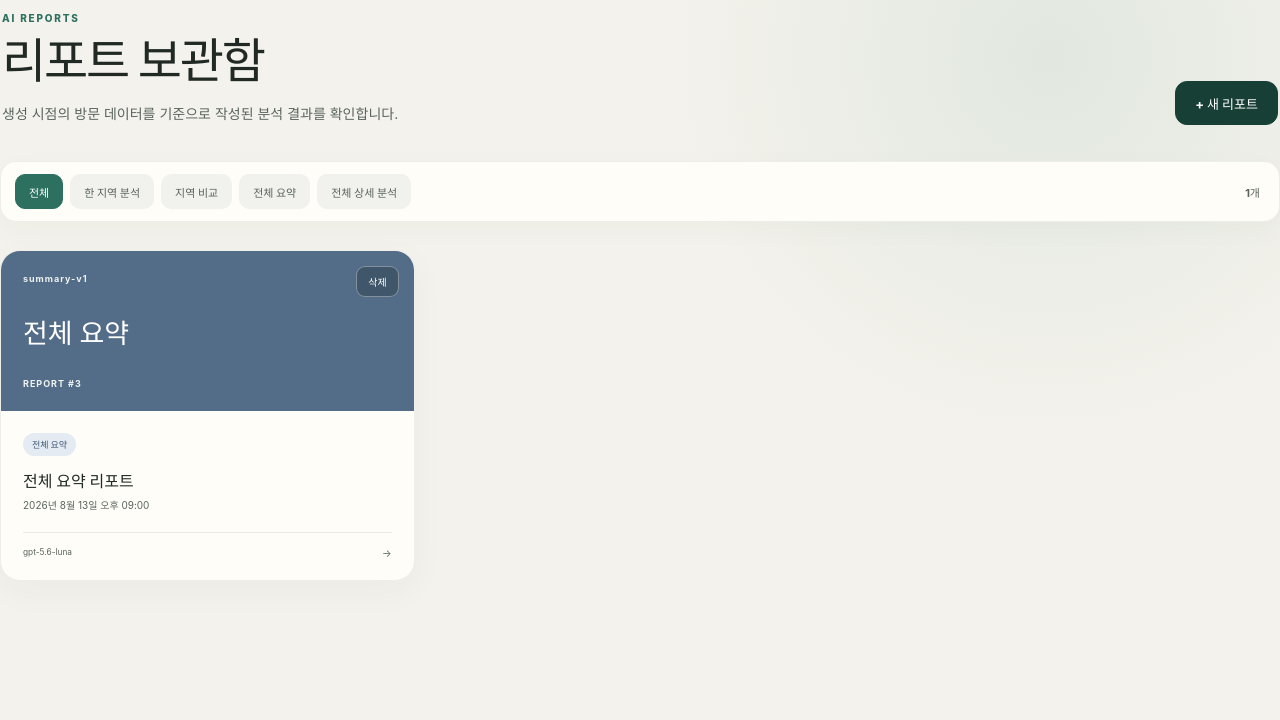
Test case: ReportsPage › 확인 후 Report를 삭제하고 현재 필터 목록을 다시 조회한다
Click the button with aria-label "전체 요약 리포트 #3 삭제": (378, 282) [356,266,399,298]
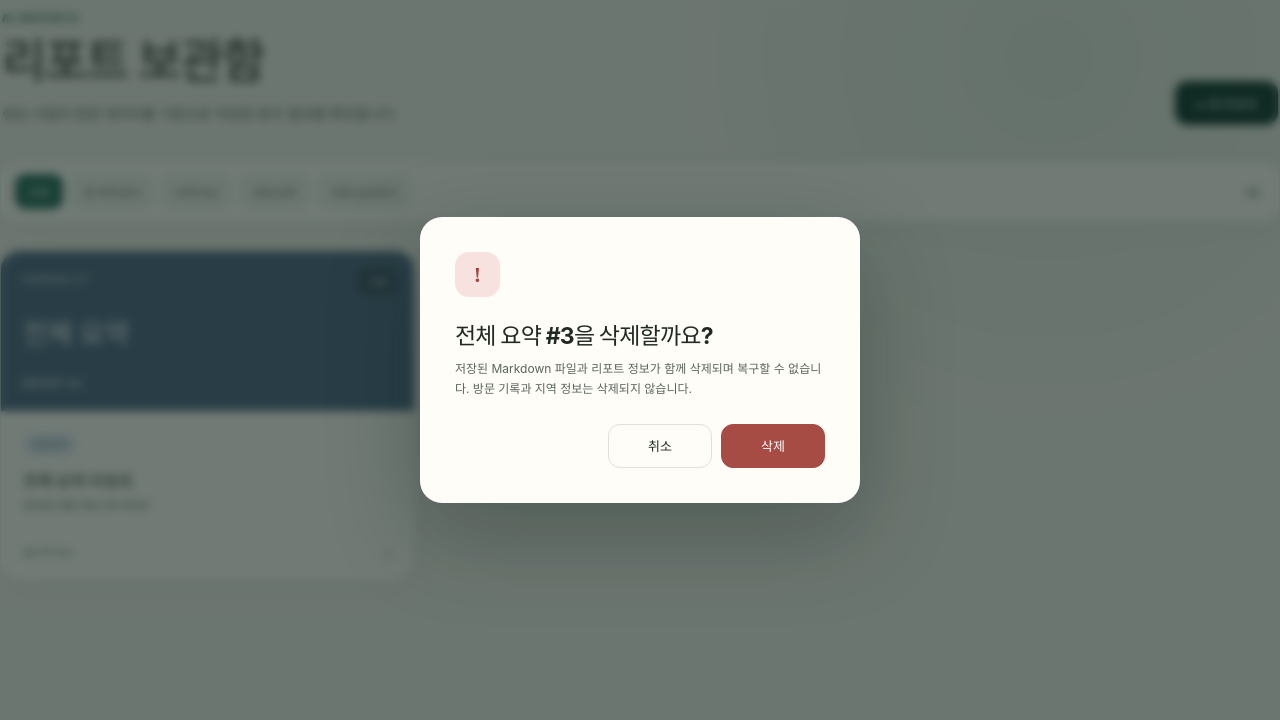
Expected: the heading "전체 요약 #3을 삭제할까요?" is shown, [455,322,713,350]
Click the button "삭제": (773, 446) [721,424,825,468]
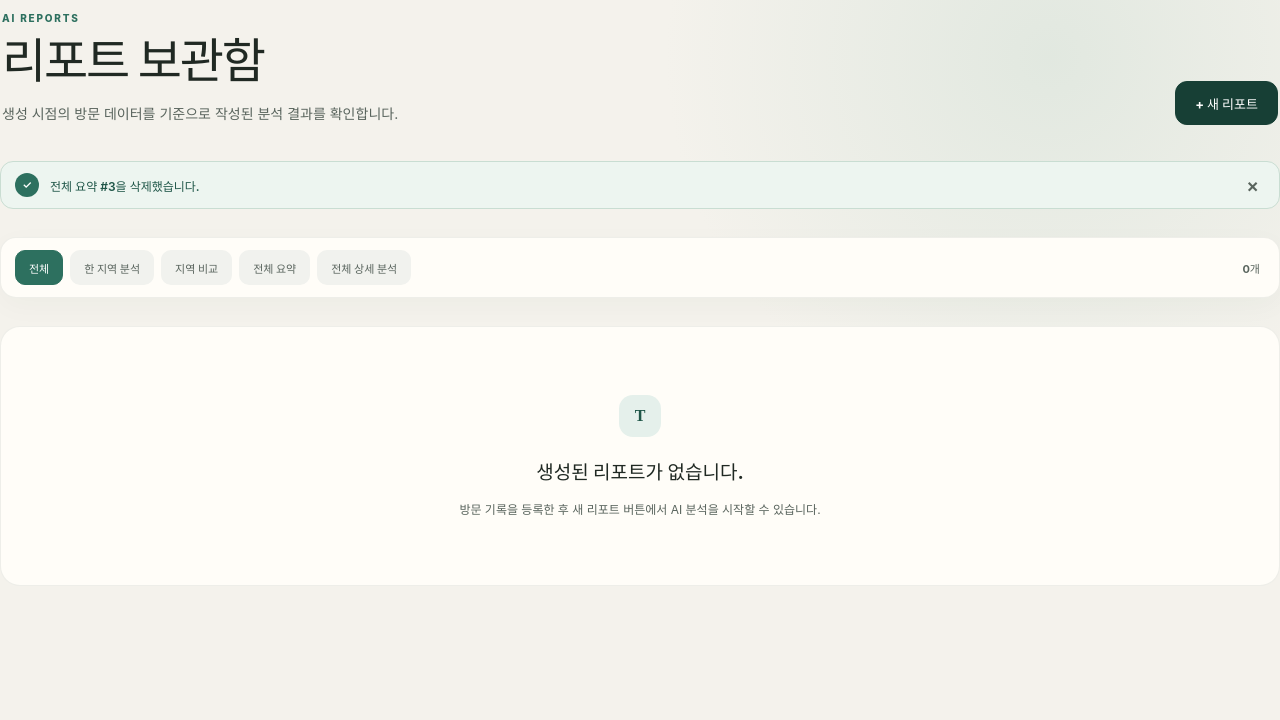
Expected: the text "전체 요약 #3을 삭제했습니다." is shown, [50,179,200,194]
Expected: the heading "생성된 리포트가 없습니다." is shown, [536,458,744,484]
